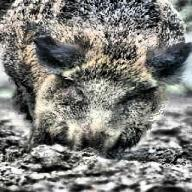boar: (0, 0, 191, 158)
